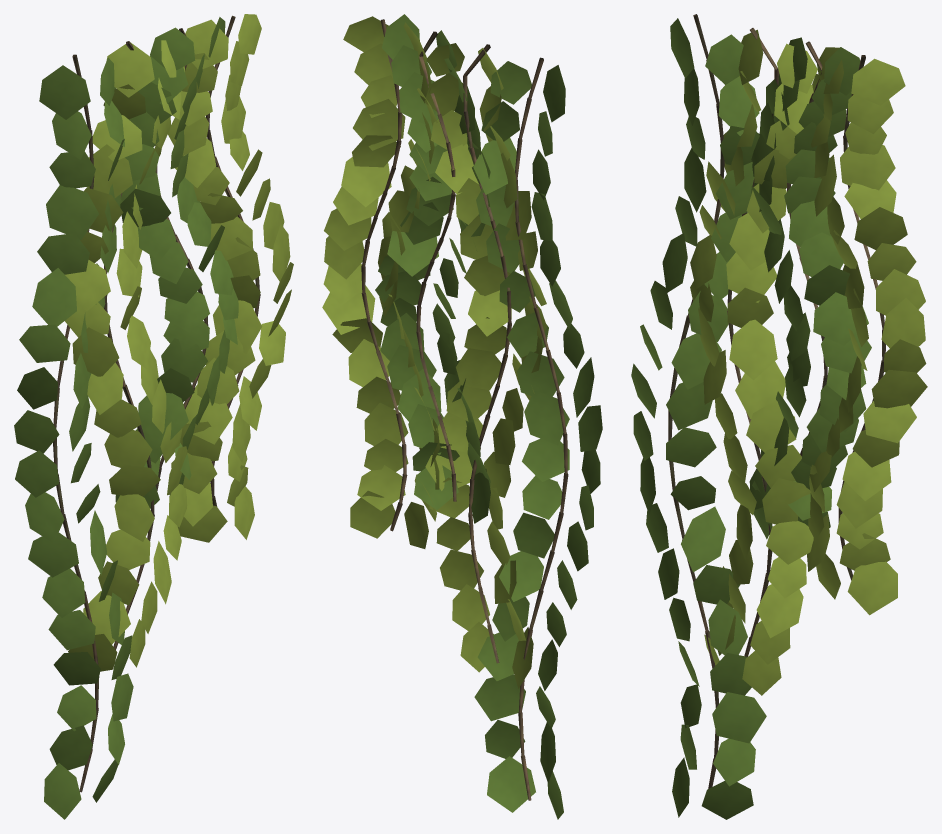
The model's file is Ivy_Long.glb.
The picture shows the model from 3 angles, left to right: view 1: azimuth 30°, elevation 25°; view 2: azimuth 150°, elevation 25°; view 3: azimuth 330°, elevation 25°; orthographic projection. The views are drawn at different scales.
Visible parts, largest first — view 1: Ivy_Long; view 2: Ivy_Long; view 3: Ivy_Long.
Boxes of the visible parts, left/top/right/bottom form: Ivy_Long: left=14, top=14, right=293, bottom=819; Ivy_Long: left=322, top=14, right=602, bottom=819; Ivy_Long: left=631, top=14, right=927, bottom=819.
Size of the model in its own units: 1.26 by 3.31 by 0.2111.
1 material, 1 textured.
